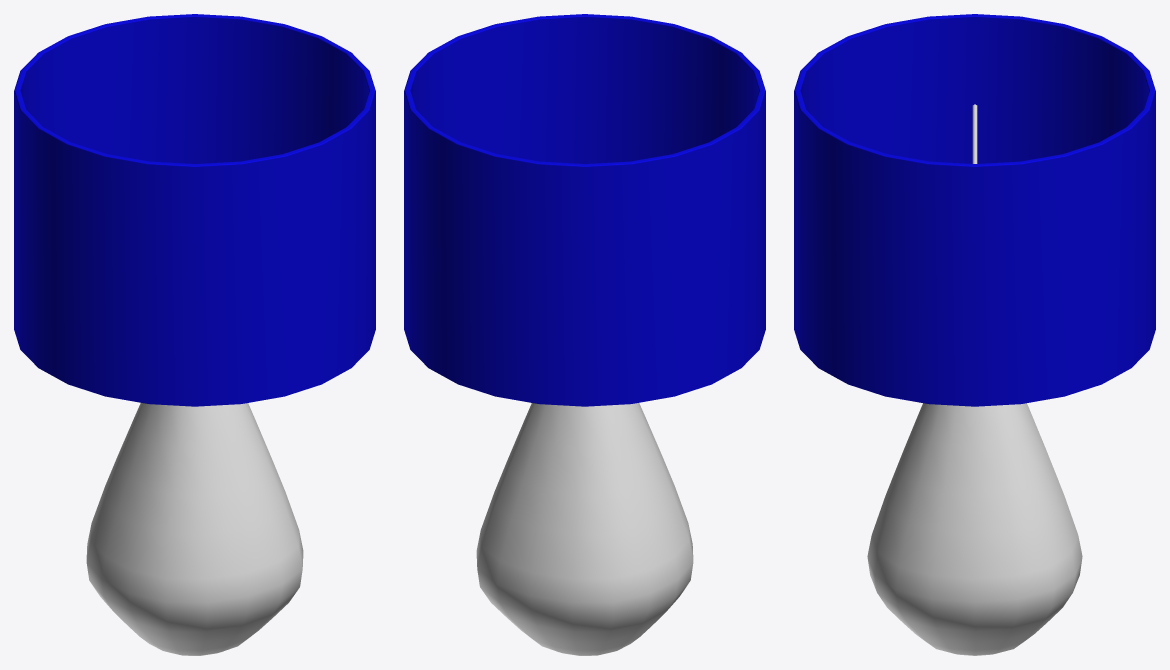
Rendered from Table Lamp.fbx.
3 renders of one model, left to right at view 1: azimuth 30°, elevation 25°; view 2: azimuth 150°, elevation 25°; view 3: azimuth 270°, elevation 25°, orthographic.
Visible parts, largest first — view 1: Lamp; view 2: Lamp; view 3: Lamp.
Boxes of the visible parts, x1,y1,x2,y2 form: Lamp: (14, 14, 375, 655); Lamp: (404, 14, 765, 655); Lamp: (794, 14, 1155, 655).
Size of the model in its own units: 30.34 by 50.95 by 30.34.
